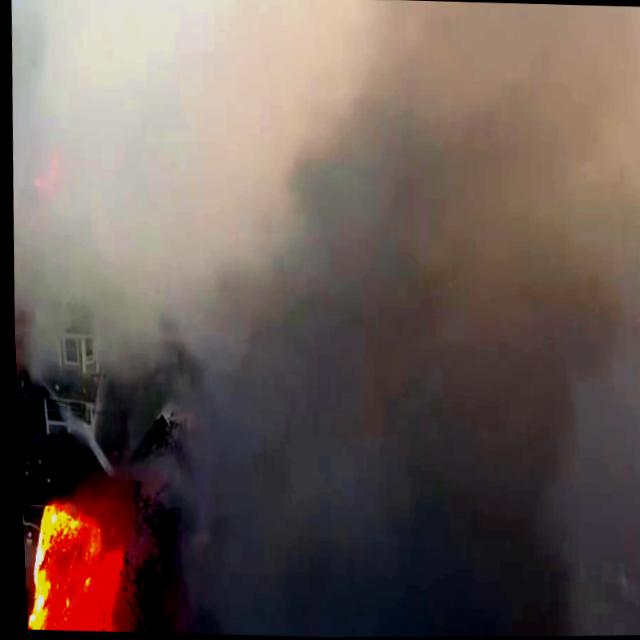fire: (17, 493, 90, 631)
smoke: (267, 80, 554, 638)
